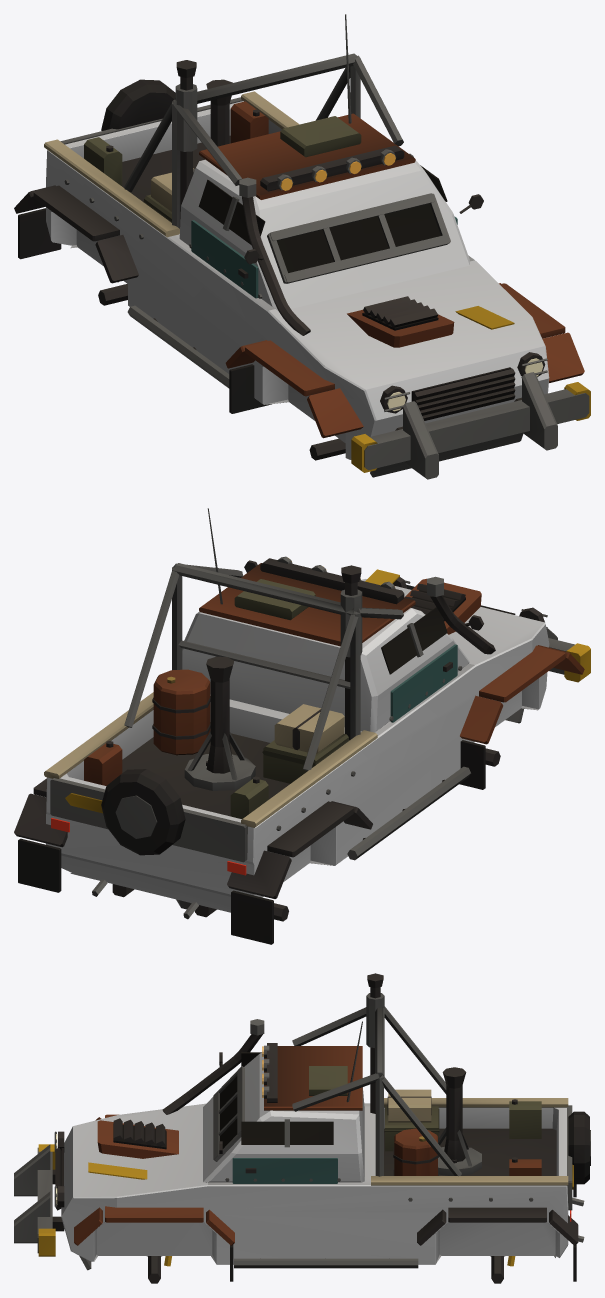
Rendered from technical.glb.
The picture shows the model from 3 angles, top to bottom: view 1: azimuth 30°, elevation 25°; view 2: azimuth 150°, elevation 25°; view 3: azimuth 270°, elevation 25°; orthographic projection. The views are drawn at different scales.
Parts seen in each view (by area): view 1: Body, Paint_Mesh, Glow; view 2: Body, Paint_Mesh; view 3: Body, Paint_Mesh.
Boxes of the visible parts, x1,y1,x2,y2 form: Body: (14,14,590,479); Paint_Mesh: (46,101,549,459); Glow: (280,153,543,411); Body: (14,508,590,944); Paint_Mesh: (46,579,549,912); Body: (14,973,590,1283); Paint_Mesh: (61,1052,568,1264).
Bounding box in the file's own units: 2.28 × 2.7 × 5.38.
